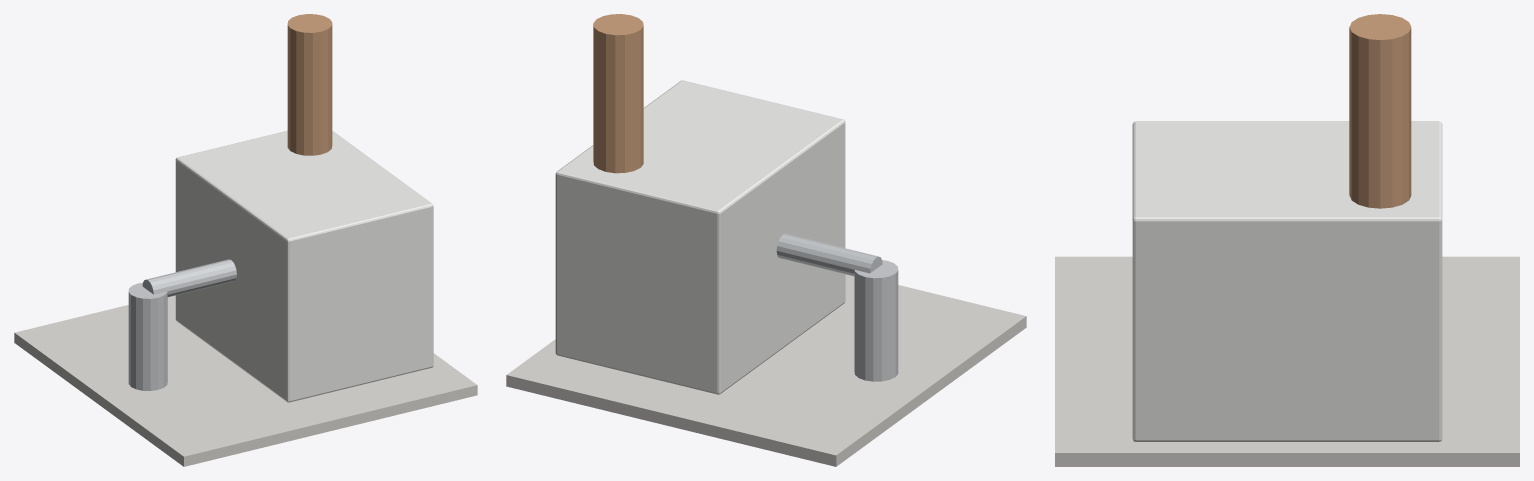
The model's file is geothermal.glb.
3 renders of one model, left to right at view 1: azimuth 30°, elevation 25°; view 2: azimuth 150°, elevation 25°; view 3: azimuth 270°, elevation 25°, orthographic. The views are drawn at different scales.
Parts seen in each view (by area): view 1: plant, pad, vent, well, pipe; view 2: plant, pad, vent, well, pipe; view 3: plant, pad, vent.
Part boxes in pixels (x1=…): plant: x1=175, y1=130, x2=433, y2=402; pad: x1=14, y1=295, x2=477, y2=466; vent: x1=287, y1=14, x2=332, y2=155; well: x1=128, y1=282, x2=167, y2=390; pipe: x1=142, y1=259, x2=236, y2=297; plant: x1=555, y1=80, x2=845, y2=394; pad: x1=506, y1=274, x2=1026, y2=466; vent: x1=593, y1=14, x2=643, y2=173; well: x1=854, y1=260, x2=898, y2=381; pipe: x1=776, y1=233, x2=882, y2=276; plant: x1=1132, y1=121, x2=1442, y2=441; pad: x1=1055, y1=256, x2=1519, y2=466; vent: x1=1349, y1=14, x2=1411, y2=208.
Bounding box in the file's own units: 6 × 5.8 × 6.
